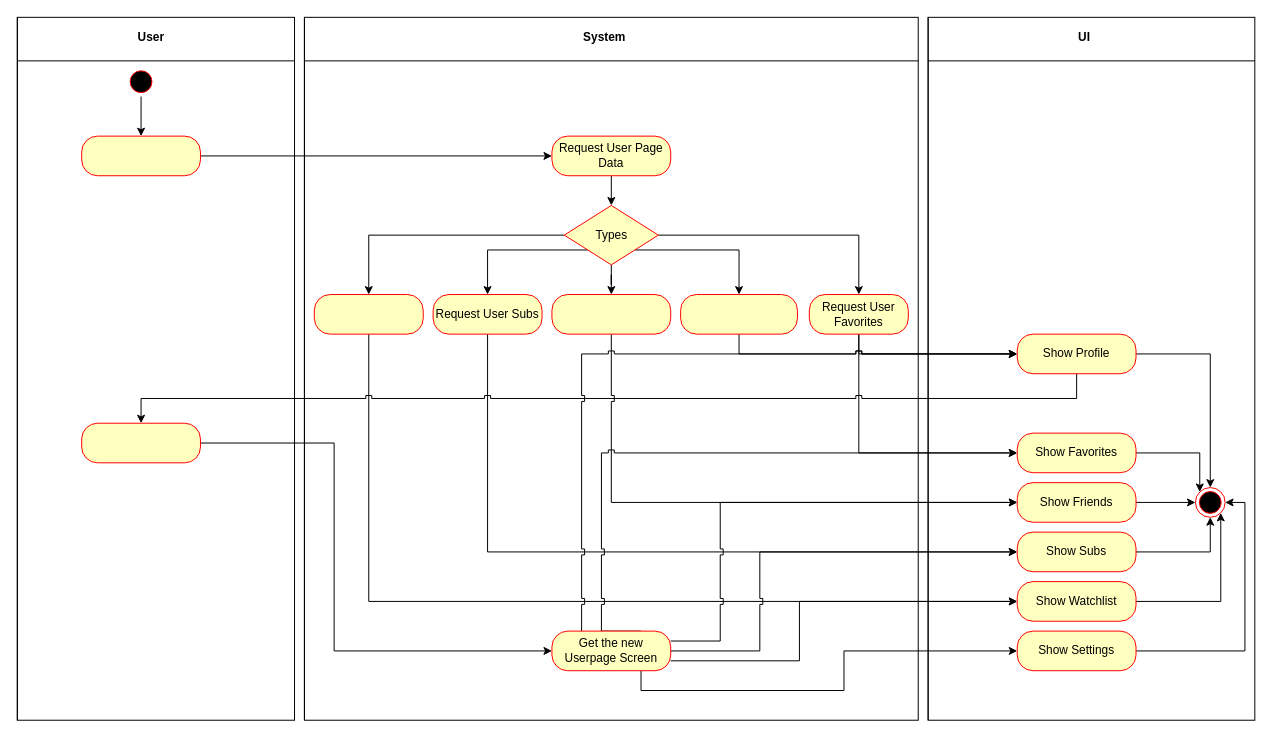
This 1272x738 diagram has some shape labels left out. Here are the shapes that lost their labels. From the top down, the box of each, then its label:
(81, 135, 200, 176): Opens User Page
(313, 294, 423, 334): Request User Watchlist
(551, 294, 671, 334): Request User Friends
(680, 294, 797, 334): Request User Data
(81, 422, 200, 463): Slide to another Userpage Screen
